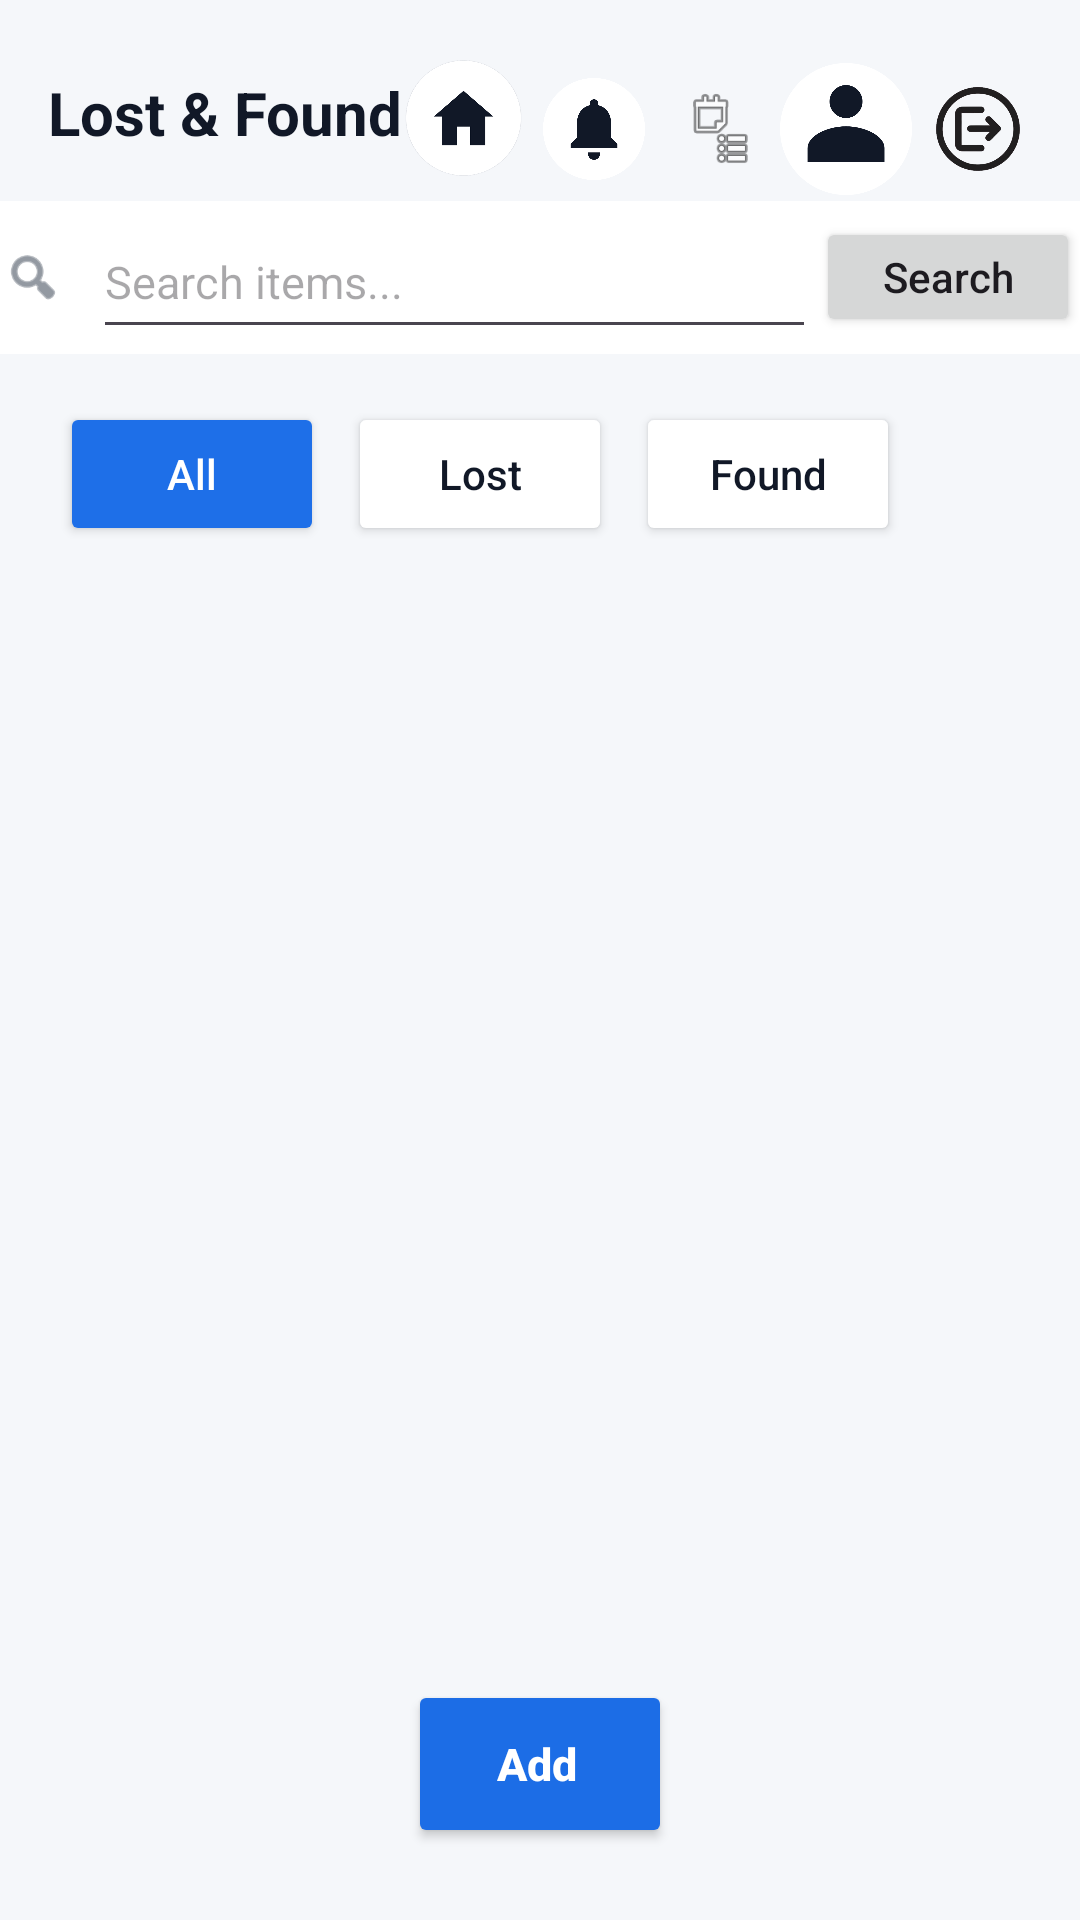

Icon bounding boxes for this 1080px×1920px phone screenshot, format {"x1": x1, "y1": y1, "x2": x2, "y2": y2}:
Home: {"x1": 434, "y1": 91, "x2": 493, "y2": 145}
Notifications: {"x1": 570, "y1": 99, "x2": 618, "y2": 160}
profile: {"x1": 807, "y1": 85, "x2": 885, "y2": 162}
Received Claims: {"x1": 693, "y1": 94, "x2": 748, "y2": 163}
